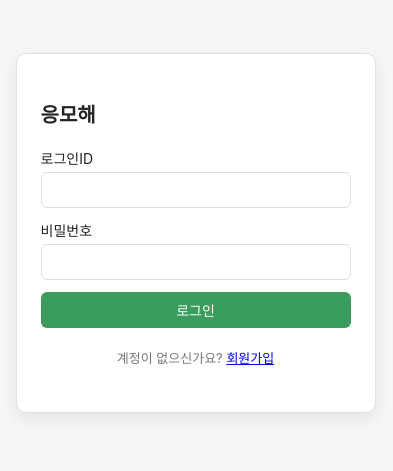
Scenario: Login › 401 응답이면 로그인 실패 메시지가 alert로 노출되고 화면 전환은 없다
The image size is (393, 471).
In the field labelled "로그인ID": (196, 190) [40,172,350,208], type "gdhong"
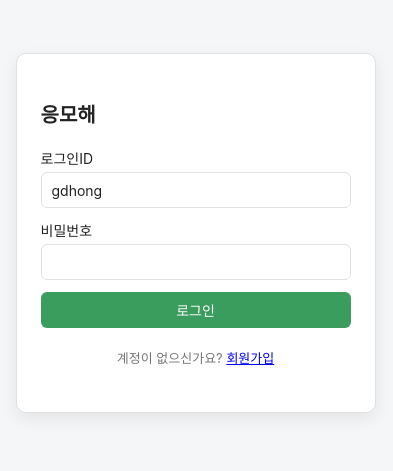
In the password field labelled "비밀번호": (196, 262) [40,244,350,280], type "pw1234"
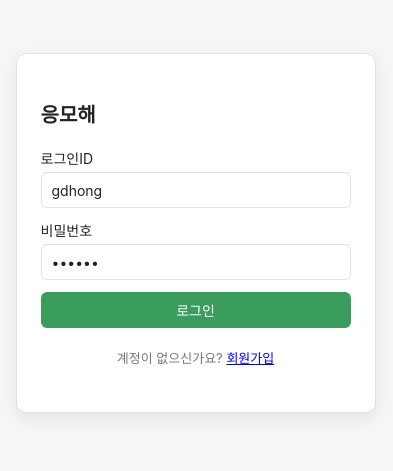
Click the button "로그인": (196, 310) [40,292,350,328]
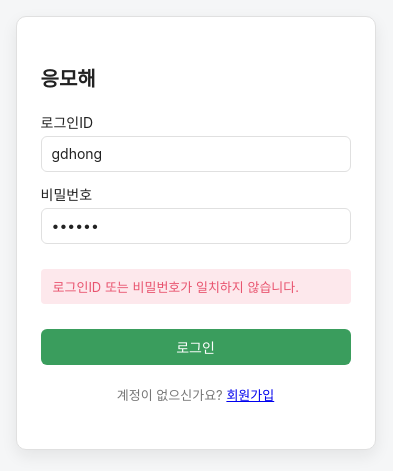
Check: the message reads "로그인ID 또는 비밀번호가 일치하지 않습니다.", box [52,279,299,295]
